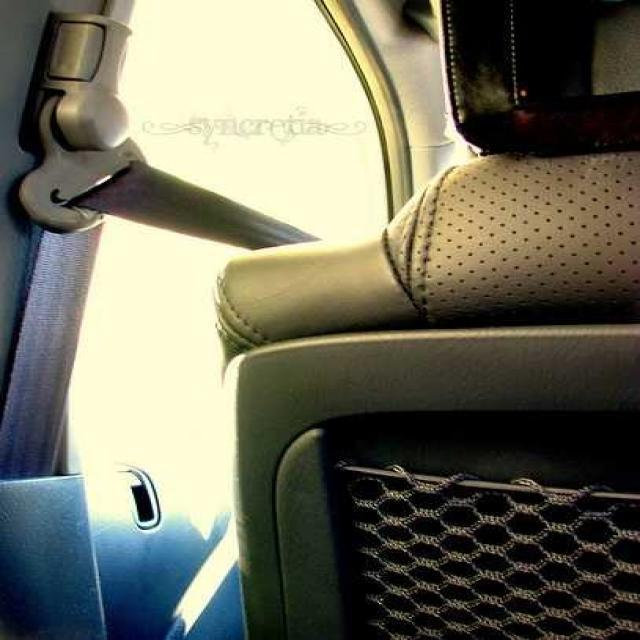seatbelt: (22, 142, 316, 460)
